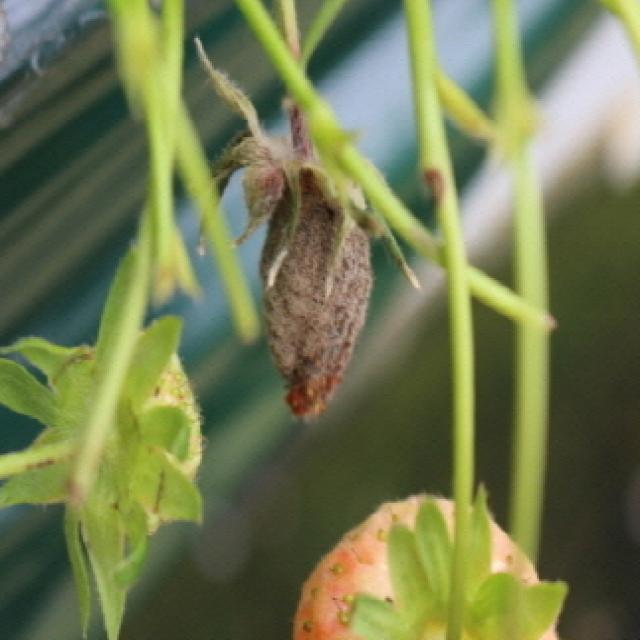Gray Mold: (214, 87, 374, 424)
